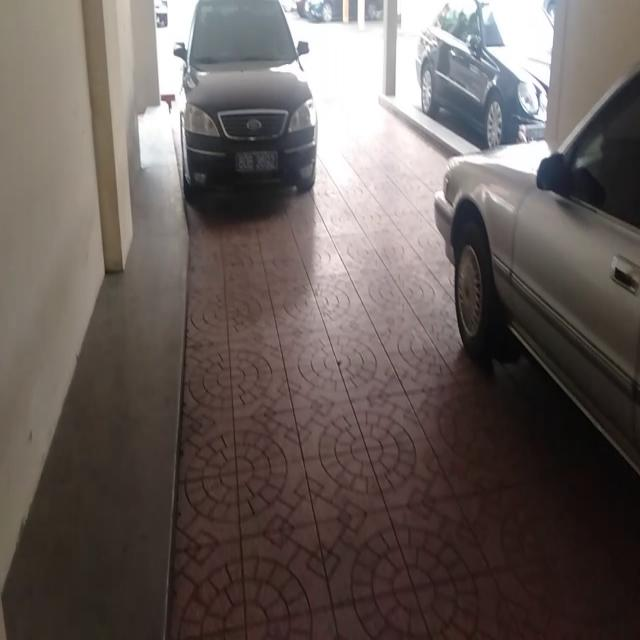bien_xanh: (236, 149, 280, 174)
